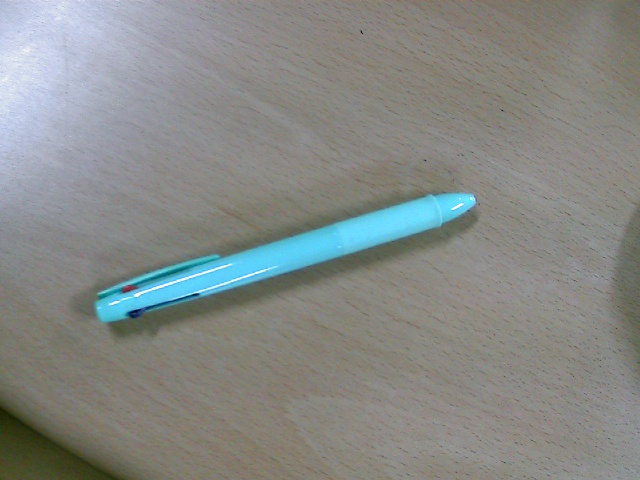pen: (84, 169, 510, 342)
